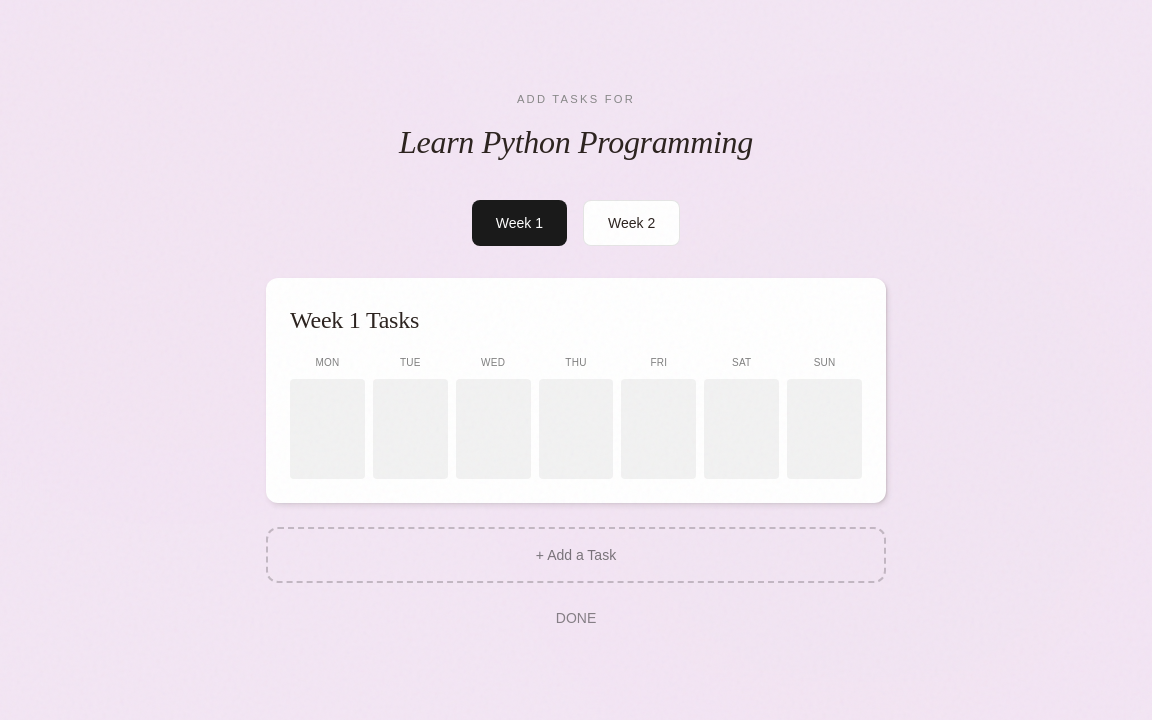
Test: TaskAssigner › Week selection › switches to Week 2 when clicked
What coordinates should you click on to do the following:
click the button "Week 2"
I would click on:
 (632, 223)
Its box is top-left (583, 200), bottom-right (680, 246).
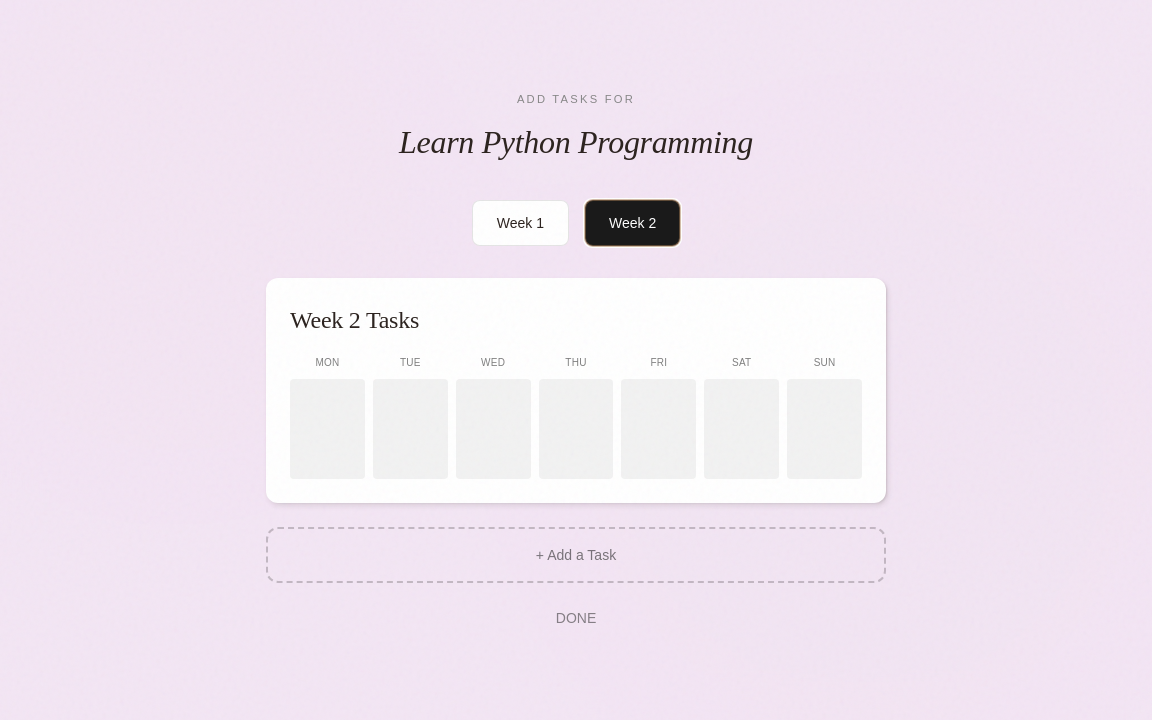
Now the heading "Week 2 Tasks" is shown, box top-left (290, 307), bottom-right (419, 333)
